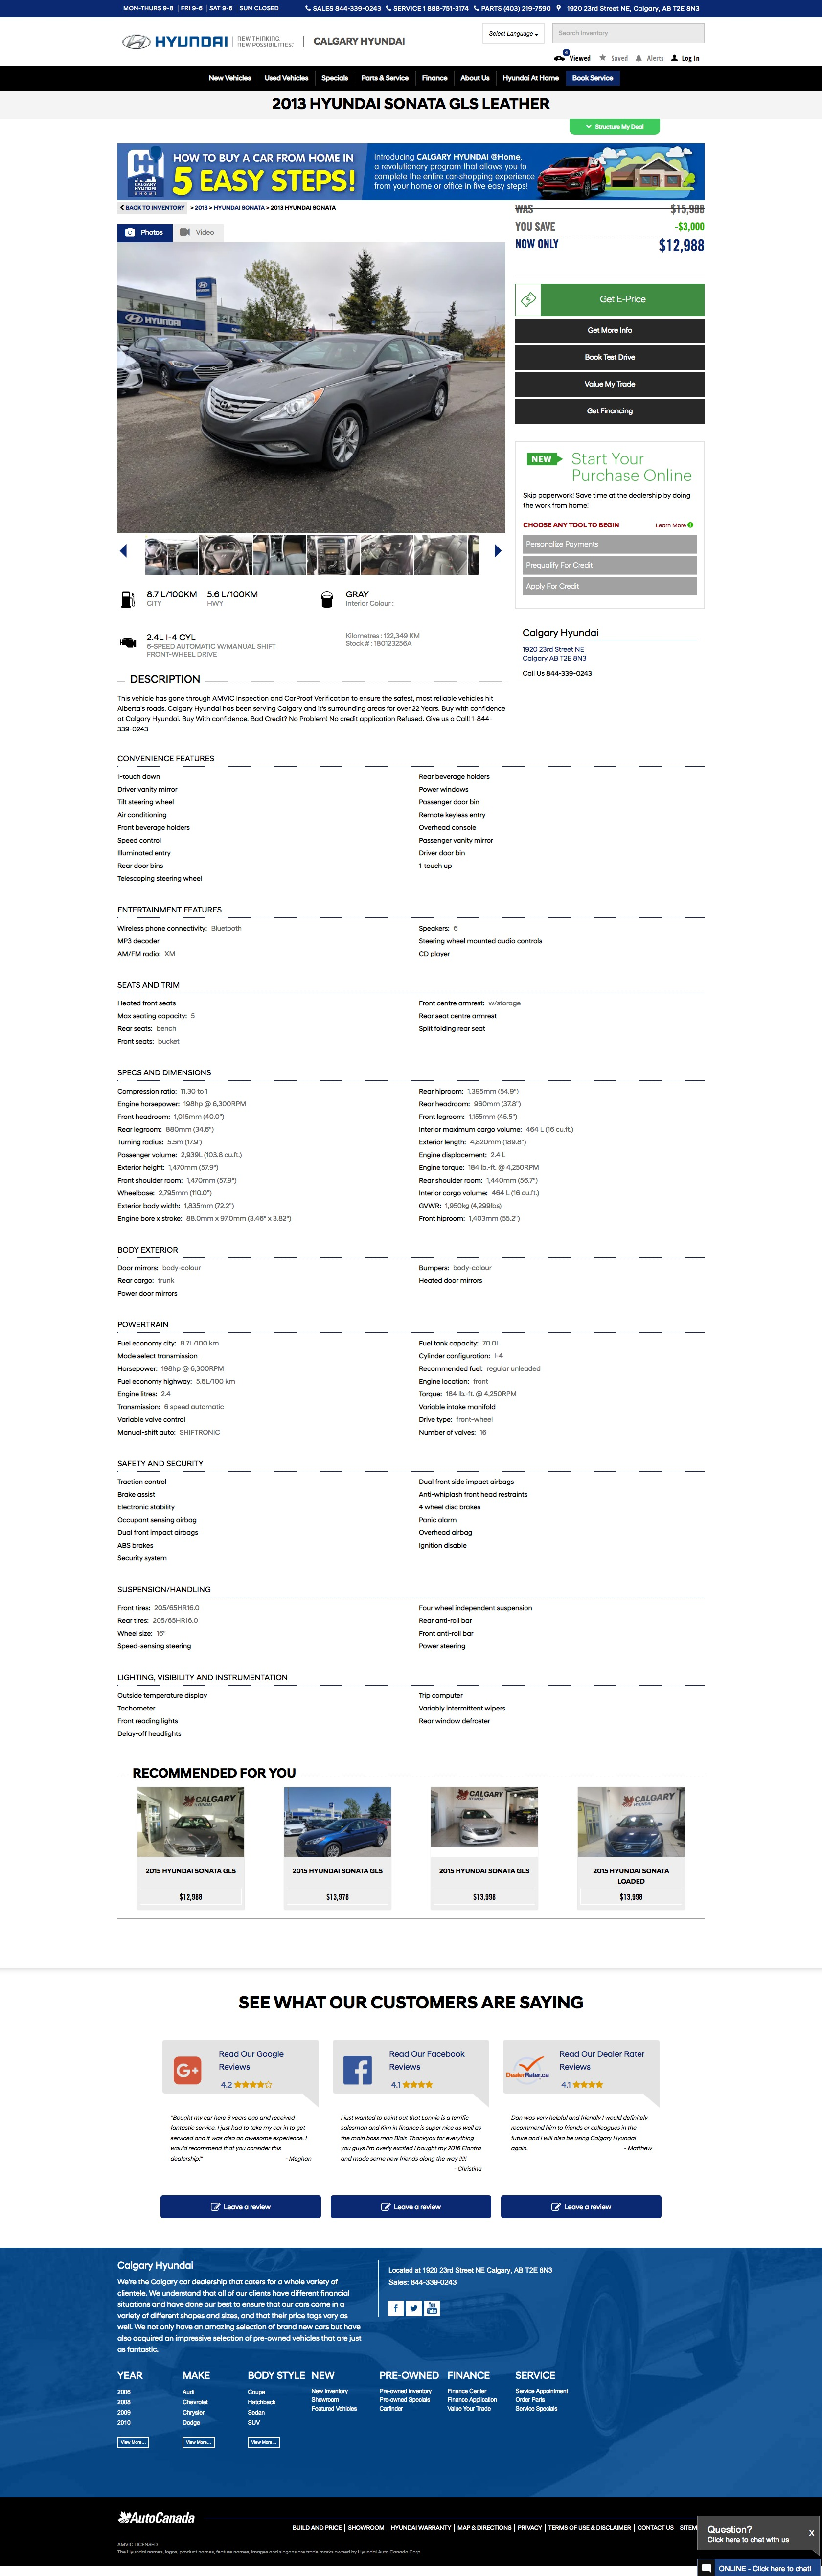car: (495, 544, 503, 560)
